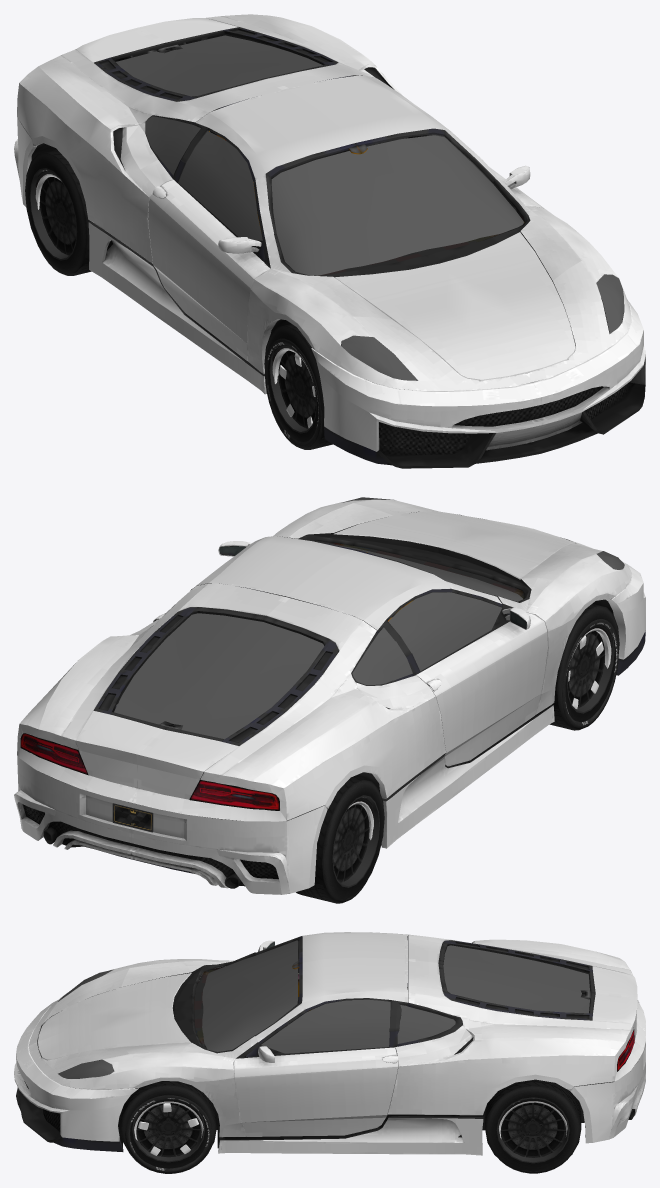
File: Sport.fbx
The picture shows the model from 3 angles, top to bottom: view 1: azimuth 30°, elevation 25°; view 2: azimuth 150°, elevation 25°; view 3: azimuth 270°, elevation 25°; orthographic projection. The views are drawn at different scales.
Parts seen in each view (by area): view 1: DC3_Sport_4_Body, DC3_Sport_4_Bumper_F_1, DC3_Sport_4_Glass_F, DC3_Sport_4_Hood, DC3_Sport_4_Roof, DC3_Sport_4_Door_FR, DC3_Sport_4_Glass_B, DC3_Sport_4_Sidepanel_R_1, DC3_Sport_4_Trunk, Whl_RR, DC3_Sport_4_Glass_FR, Whl_FR (+6 smaller); view 2: DC3_Sport_4_Body, DC3_Sport_4_Bumper_B_1, DC3_Sport_4_Glass_B, DC3_Sport_4_Trunk, DC3_Sport_4_Roof, DC3_Sport_4_Door_FR, DC3_Sport_4_Hood, Whl_RR, DC3_Sport_4_Sidepanel_R_1, DC3_Sport_4_Glass_FR, Whl_FR, DC3_Sport_4_Tailights (+8 smaller); view 3: DC3_Sport_4_Body, DC3_Sport_4_Door_FL, DC3_Sport_4_Roof, DC3_Sport_4_Hood, DC3_Sport_4_Glass_F, DC3_Sport_4_Bumper_F_1, Whl_RL, DC3_Sport_4_Glass_B, DC3_Sport_4_Sidepanel_L_1, Whl_FL, DC3_Sport_4_Glass_FL, DC3_Sport_4_Trunk (+7 smaller).
Boxes of the visible parts, box(x1,y1,x2,y2) form: DC3_Sport_4_Body: box(17, 14, 631, 391); DC3_Sport_4_Bumper_F_1: box(311, 299, 645, 468); DC3_Sport_4_Glass_F: box(271, 135, 523, 275); DC3_Sport_4_Hood: box(334, 232, 575, 380); DC3_Sport_4_Roof: box(181, 75, 500, 240); DC3_Sport_4_Door_FR: box(148, 179, 270, 360); DC3_Sport_4_Glass_B: box(116, 35, 322, 96); DC3_Sport_4_Sidepanel_R_1: box(88, 221, 266, 394); DC3_Sport_4_Trunk: box(76, 18, 337, 101); Whl_RR: box(25, 149, 90, 274); DC3_Sport_4_Glass_FR: box(178, 131, 262, 240); Whl_FR: box(264, 324, 324, 441); DC3_Sport_4_Body: box(17, 499, 631, 845); DC3_Sport_4_Bumper_B_1: box(14, 739, 327, 894); DC3_Sport_4_Glass_B: box(114, 613, 324, 739); DC3_Sport_4_Trunk: box(75, 607, 338, 799); DC3_Sport_4_Roof: box(190, 536, 502, 656); DC3_Sport_4_Door_FR: box(416, 607, 547, 766); DC3_Sport_4_Hood: box(334, 511, 575, 579); Whl_RR: box(315, 777, 384, 900); DC3_Sport_4_Sidepanel_R_1: box(381, 704, 554, 848); DC3_Sport_4_Glass_FR: box(388, 592, 501, 670); Whl_FR: box(552, 603, 619, 722); DC3_Sport_4_Tailights: box(20, 733, 279, 810); DC3_Sport_4_Body: box(28, 934, 645, 1148); DC3_Sport_4_Door_FL: box(234, 1044, 398, 1136); DC3_Sport_4_Roof: box(255, 932, 407, 1044); DC3_Sport_4_Hood: box(37, 973, 191, 1060); DC3_Sport_4_Glass_F: box(202, 940, 297, 1051); DC3_Sport_4_Bumper_F_1: box(14, 1000, 138, 1151); Whl_RL: box(485, 1079, 581, 1171); DC3_Sport_4_Glass_B: box(443, 945, 589, 1013); DC3_Sport_4_Sidepanel_L_1: box(218, 1116, 483, 1155); Whl_FL: box(120, 1081, 216, 1168); DC3_Sport_4_Glass_FL: box(261, 999, 390, 1053); DC3_Sport_4_Trunk: box(438, 940, 637, 1040).
Size of the model in its own units: 312 by 203 by 718.
